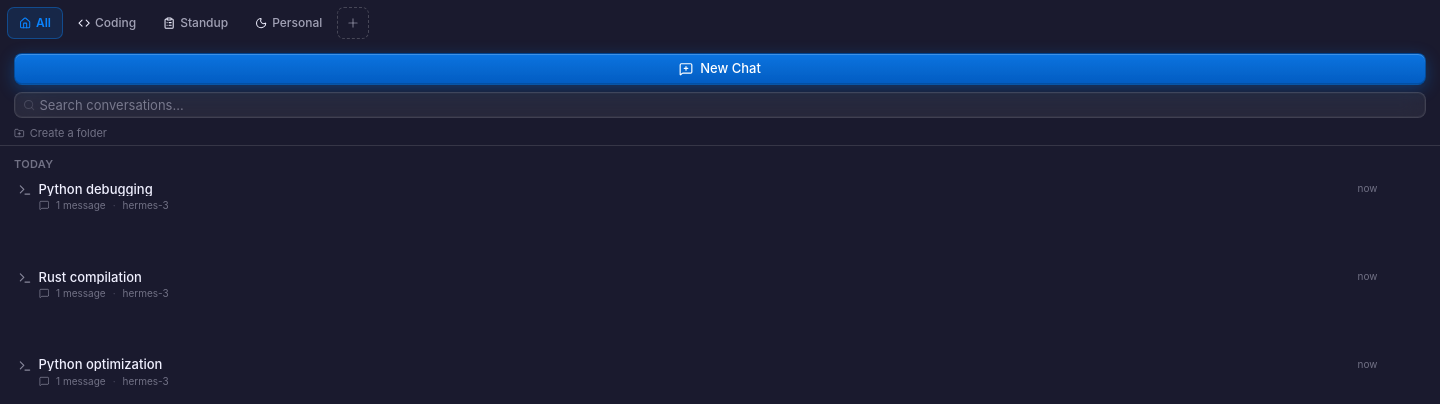
it: Flow: Session Management › search input filters sessions by title
Type "Python" into the field with placeholder "Search conversations..." at (720, 104), box [14,92,1426,118]
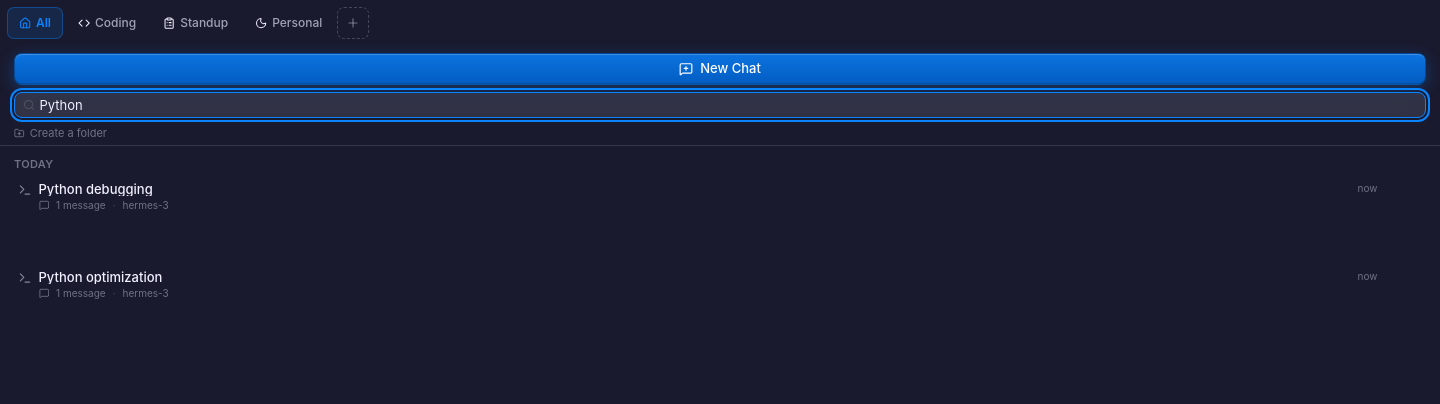
Check: the text "Python debugging" is shown, box [38,182,153,196]
Check: the button "Rust compilation" is gone
